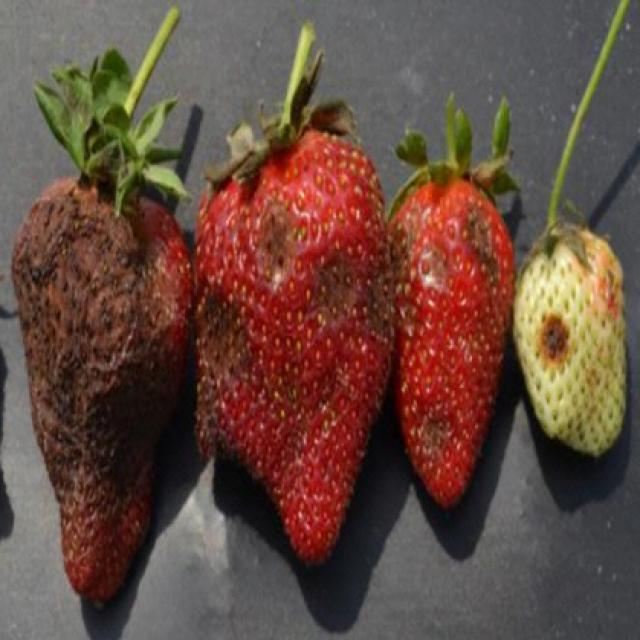Anthracnose Fruit Rot: (9, 186, 192, 571), (194, 192, 390, 468), (386, 199, 504, 461), (534, 311, 574, 370)
